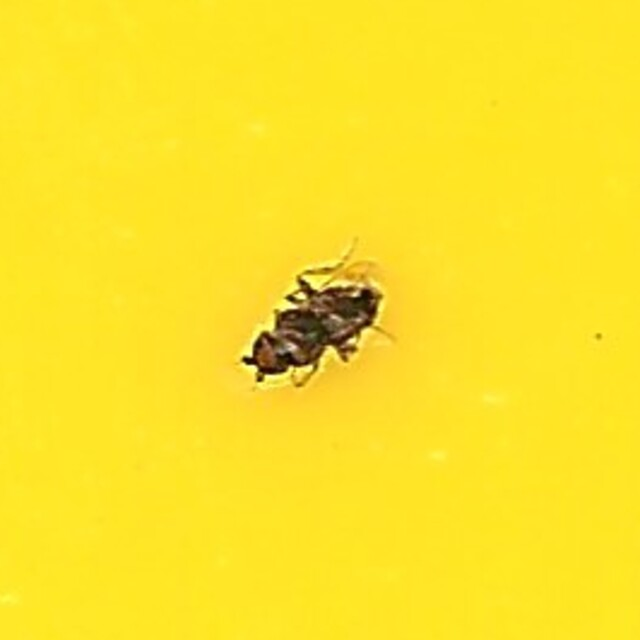Brachycera: (241, 243, 399, 397)
